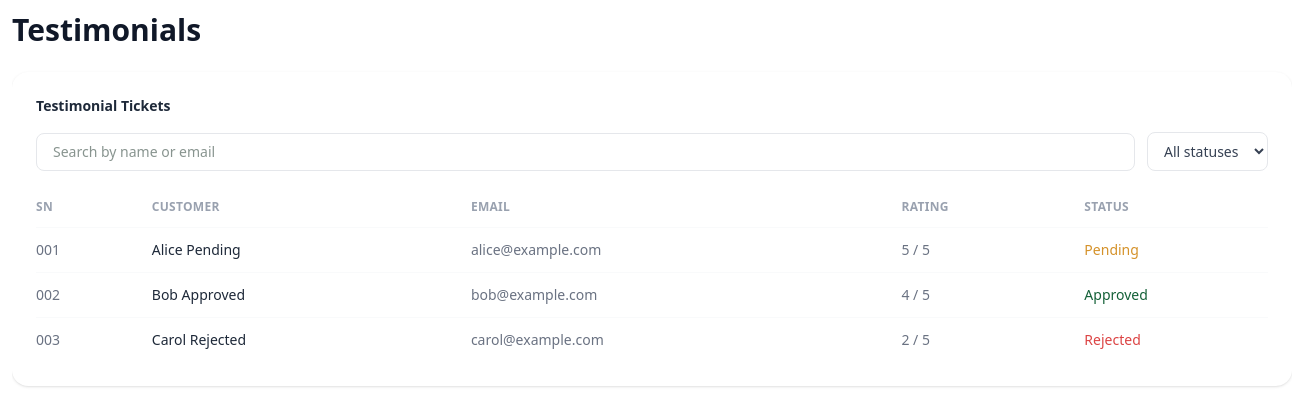
Test case: AdminTestimonialsClient › filters by status
The image size is (1292, 404).
Select "Pending" in the dropdown showing "All statuses": [1208, 152] box [1147,132,1268,171]
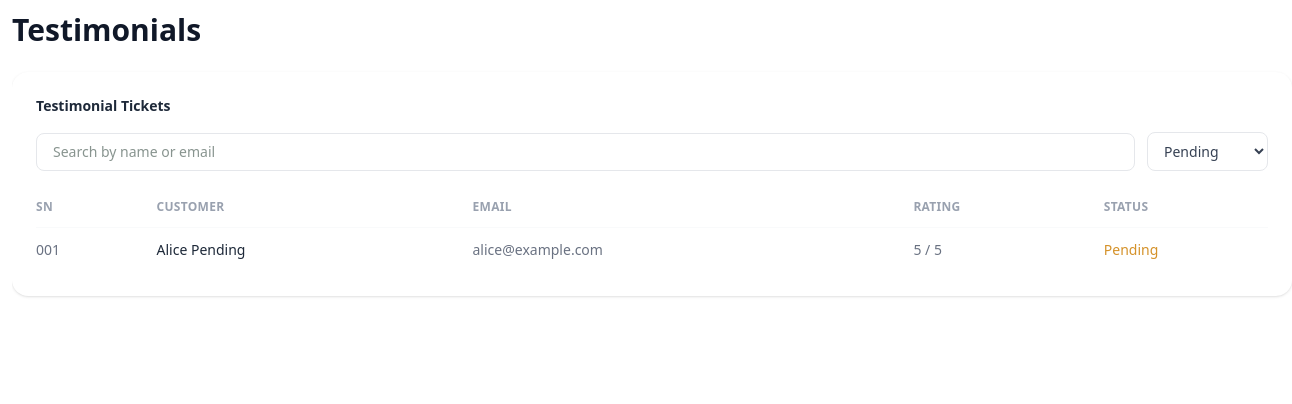
Expected: the text "Alice Pending" is shown, [156,228,472,272]
Expected: the text "Bob Approved" is gone
Expected: the text "Carol Rejected" is gone
